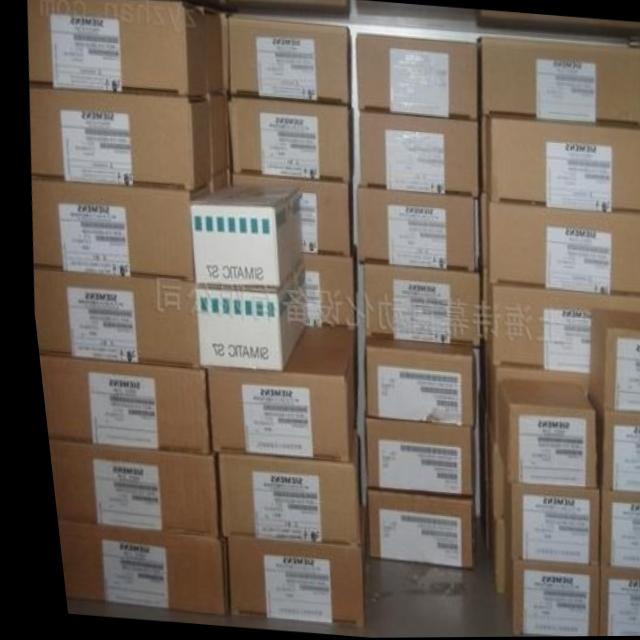box: (196, 322, 345, 461), (27, 172, 205, 284), (27, 84, 207, 188), (470, 193, 640, 300), (27, 266, 191, 371), (45, 518, 214, 619), (38, 437, 208, 537), (27, 0, 204, 95), (31, 353, 200, 452), (473, 277, 640, 377), (474, 117, 640, 217), (204, 431, 351, 543), (211, 518, 354, 627), (473, 38, 640, 125), (186, 183, 297, 291), (229, 13, 351, 108), (187, 269, 297, 372), (354, 34, 475, 122), (354, 112, 478, 197), (488, 383, 587, 488), (352, 188, 476, 271), (354, 263, 478, 346), (356, 335, 467, 426), (225, 175, 347, 257), (226, 100, 349, 181), (492, 472, 588, 570), (474, 362, 581, 446), (354, 416, 464, 495), (491, 548, 588, 637), (354, 488, 462, 561), (578, 310, 640, 416), (579, 392, 640, 496), (294, 254, 351, 336), (587, 490, 640, 574), (585, 568, 640, 637), (200, 98, 227, 195), (196, 9, 225, 96), (473, 518, 492, 594), (475, 438, 491, 519)
